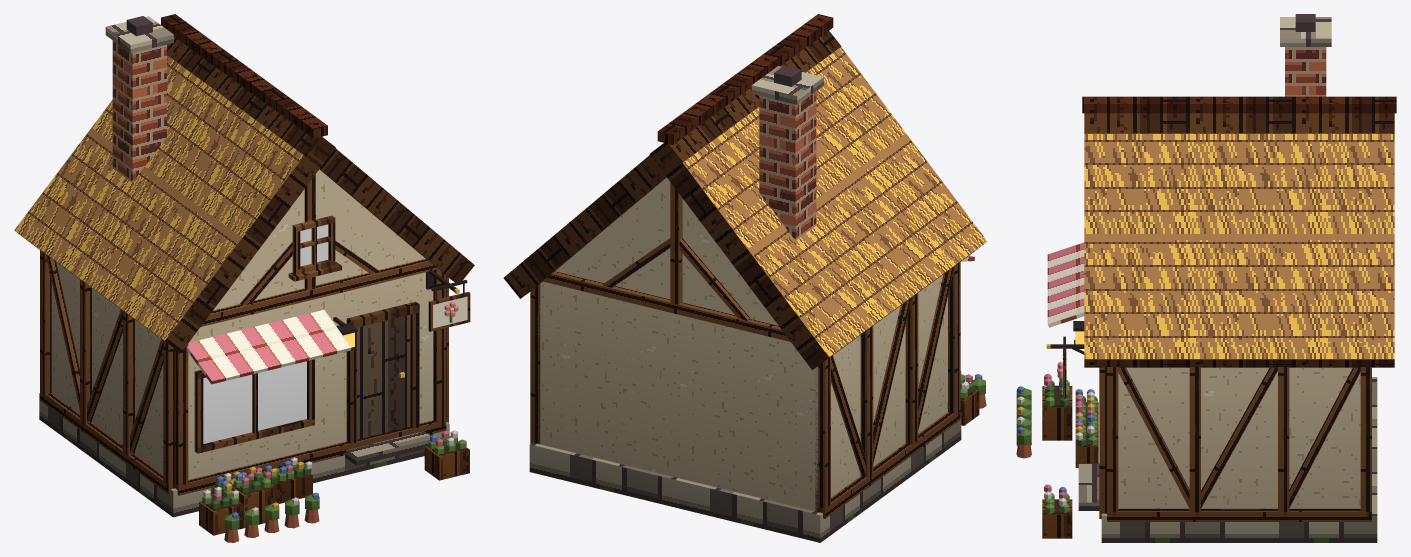
File: flower_shop.glb
The picture shows the model from 3 angles, left to right: view 1: azimuth 30°, elevation 25°; view 2: azimuth 150°, elevation 25°; view 3: azimuth 270°, elevation 25°; orthographic projection. The views are drawn at different scales.
Parts seen in each view (by area): view 1: flower_shop; view 2: flower_shop; view 3: flower_shop.
Boxes of the visible parts, left/top/right/bottom form: flower_shop: left=14, top=14, right=474, bottom=542; flower_shop: left=503, top=14, right=987, bottom=542; flower_shop: left=1016, top=14, right=1396, bottom=542.
Size of the model in its own units: 5.56 by 6.98 by 5.74.
9 materials, 6 textured.
